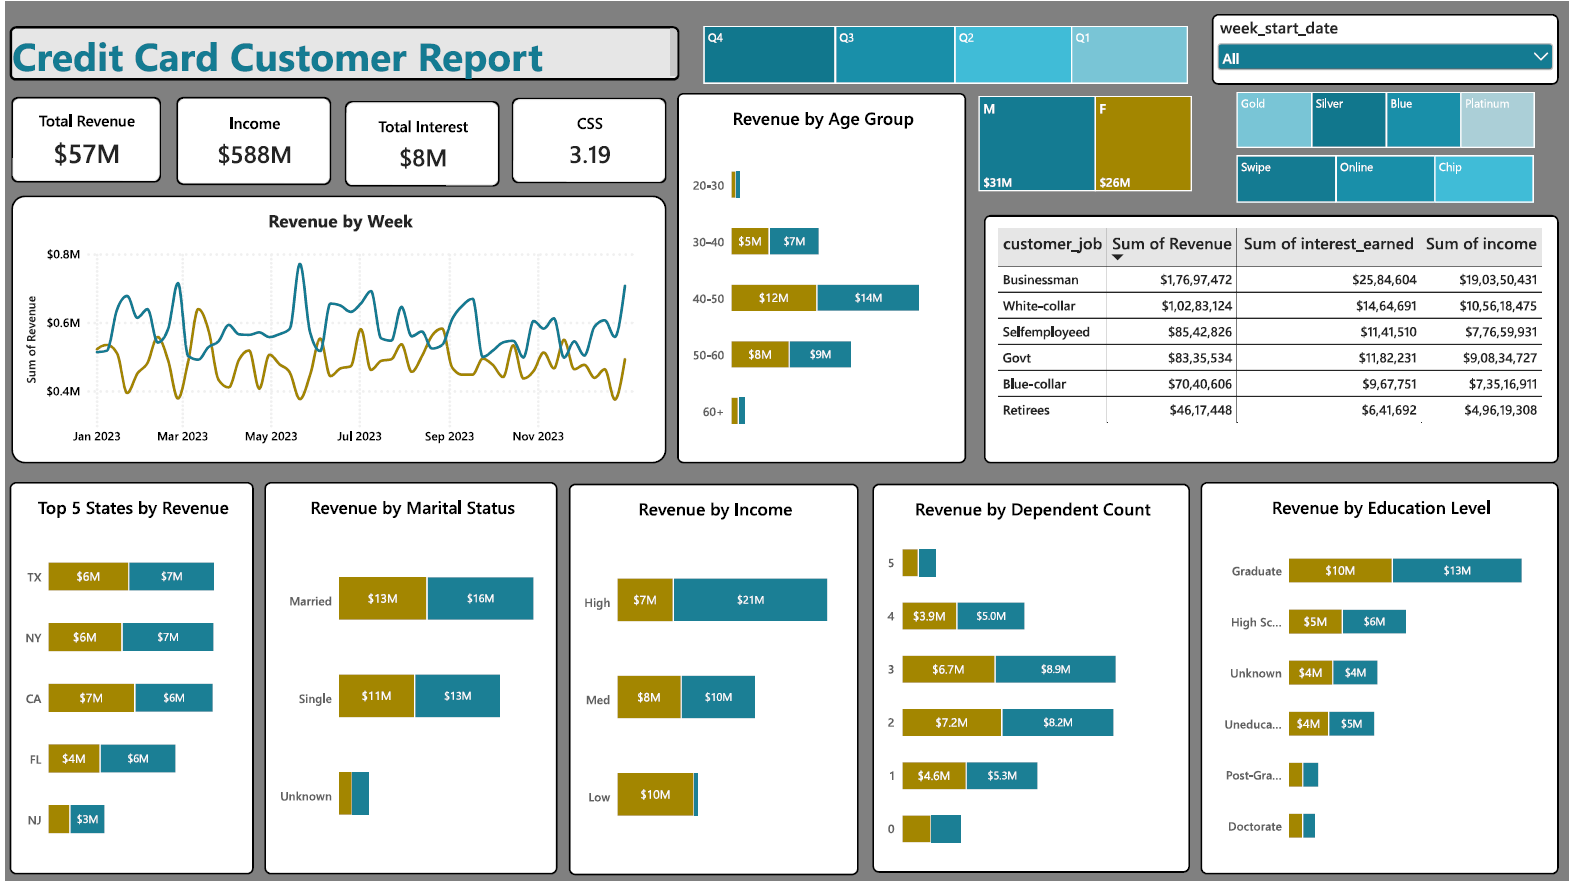

This screenshot's page, from the dashboard's own definition file:
{"tool":"powerbi","page":{"name":"CC Customer","canvas":[1920,1080],"ordinal":2},"visuals":[{"type":"textbox","box":[5,30,823.3,66.7],"z":0},{"type":"barChart","title":"Revenue by Income","fields":{"Y":["Sum(public cc_details.Revenue)"],"Category":["public cust_details.Income_Group"],"Series":["public cust_details.gender"]},"box":[691.7,591.7,356.7,481.7],"z":1000},{"type":"pivotTable","fields":{"Rows":["public cust_details.customer_job"],"Values":["Sum(public cc_details.Revenue)","Sum(public cc_details.interest_earned)","Sum(public cust_details.income)"]},"box":[1201.7,261.7,706.7,305],"z":2000},{"type":"cardVisual","title":"Total Revenue","fields":{"Data":["Sum(public cc_details.Revenue)"]},"box":[6.7,116.7,184.3,105.7],"z":3000},{"type":"cardVisual","fields":{"Data":["Sum(public cust_details.income)"]},"box":[210,116.7,190,108.3],"z":4000},{"type":"cardVisual","fields":{"Data":["Sum(public cc_details.interest_earned)"]},"box":[416.7,121.7,190,105],"z":5000},{"type":"cardVisual","fields":{"Data":["Avg(public cust_details.cust_satisfaction_score)"]},"box":[621.7,118.3,190,105],"z":6000},{"type":"slicer","fields":{"Values":["public cc_details.week_start_date"]},"box":[1481.7,15,426.7,86.7],"z":7000},{"type":"treemap","fields":{"Group":["public cc_details.qtr"],"Values":["Avg(public cc_details.client_num)"]},"box":[842,16,626,100],"z":8000},{"type":"lineChart","title":" Revenue by Week","fields":{"Y":["Sum(public cc_details.Revenue)"],"Series":["public cust_details.gender"],"Category":["public cc_details.week_start_date.Variation.Date Hierarchy.Year","public cc_details.week_start_date.Variation.Date Hierarchy.Month","public cc_details.week_start_date.Variation.Date Hierarchy.Day"]},"box":[6.7,238.3,805,328.3],"z":9000},{"type":"treemap","fields":{"Values":["Sum(public cc_details.Revenue)"],"Group":["public cust_details.gender"]},"box":[1180,101.7,293.3,146.7],"z":10000},{"type":"barChart","title":"Revenue by Age Group","fields":{"Y":["Sum(public cc_details.Revenue)"],"Category":["public cust_details.AgeGroup"],"Series":["public cust_details.gender"]},"box":[825,111.7,355,455],"z":11000},{"type":"barChart","title":"Revenue by Education Level","fields":{"Y":["Sum(public cc_details.Revenue)"],"Category":["public cust_details.education_level"],"Series":["public cust_details.gender"]},"box":[1468.3,590,440,481.7],"z":12000},{"type":"barChart","title":"Top 5 States by Revenue","fields":{"Y":["Sum(public cc_details.Revenue)"],"Category":["public cust_details.state_cd"],"Series":["public cust_details.gender"]},"box":[5,590,300,481.7],"z":13000},{"type":"barChart","title":"Revenue by Marital Status","fields":{"Y":["Sum(public cc_details.Revenue)"],"Category":["public cust_details.marital_status"],"Series":["public cust_details.gender"]},"box":[318.3,590,360,481.7],"z":14000},{"type":"barChart","title":"Revenue by Dependent Count","fields":{"Y":["Sum(public cc_details.Revenue)"],"Category":["public cust_details.dependent_count"],"Series":["public cust_details.gender"]},"box":[1065,591.7,390,478.3],"z":15000},{"type":"treemap","fields":{"Values":["Avg(public cc_details.client_num)"],"Details":["public cc_details.card_category"]},"box":[1496.7,96.7,397.1,98.6],"z":16000},{"type":"treemap","fields":{"Values":["Avg(public cc_details.client_num)"],"Details":["public cc_details.use_chip"]},"box":[1496.7,175,396.7,86.7],"z":17000}]}

Visuals, with their boxes in screenshot pixels (x1, y1, x2, y2), scaled from the page's 1920x1080 canvas onto the 1573x881 screenshot:
textbox: locate(4, 24, 679, 79)
"Revenue by Income" barChart: locate(567, 483, 859, 876)
pivotTable - public cust_details.customer_job x Sum(public cc_details.Revenue): locate(985, 213, 1563, 462)
"Total Revenue" cardVisual: locate(5, 95, 156, 181)
cardVisual - Sum(public cust_details.income): locate(172, 95, 328, 184)
cardVisual - Sum(public cc_details.interest_earned): locate(341, 99, 497, 185)
cardVisual - Avg(public cust_details.cust_satisfaction_score): locate(509, 97, 665, 182)
slicer - public cc_details.week_start_date: locate(1214, 12, 1563, 83)
treemap - public cc_details.qtr x Avg(public cc_details.client_num): locate(690, 13, 1203, 95)
" Revenue by Week" lineChart: locate(5, 194, 665, 462)
treemap - Sum(public cc_details.Revenue) x public cust_details.gender: locate(967, 83, 1207, 203)
"Revenue by Age Group" barChart: locate(676, 91, 967, 462)
"Revenue by Education Level" barChart: locate(1203, 481, 1563, 874)
"Top 5 States by Revenue" barChart: locate(4, 481, 250, 874)
"Revenue by Marital Status" barChart: locate(261, 481, 556, 874)
"Revenue by Dependent Count" barChart: locate(873, 483, 1192, 873)
treemap - Avg(public cc_details.client_num) x public cc_details.card_category: locate(1226, 79, 1552, 159)
treemap - Avg(public cc_details.client_num) x public cc_details.use_chip: locate(1226, 143, 1551, 213)
